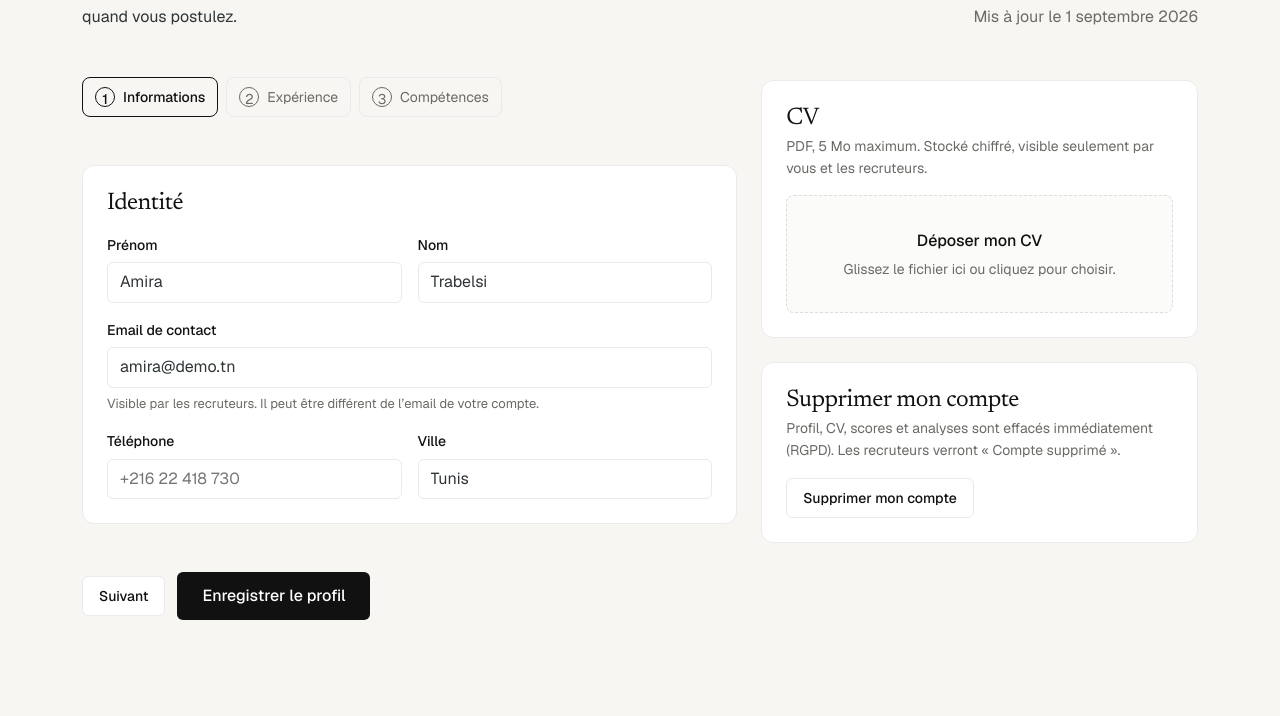
it: profile creation and edition › shows the server field errors under the right field
(page scrolled)
Click the button "Enregistrer le profil": click(274, 596) [178,572,370,620]
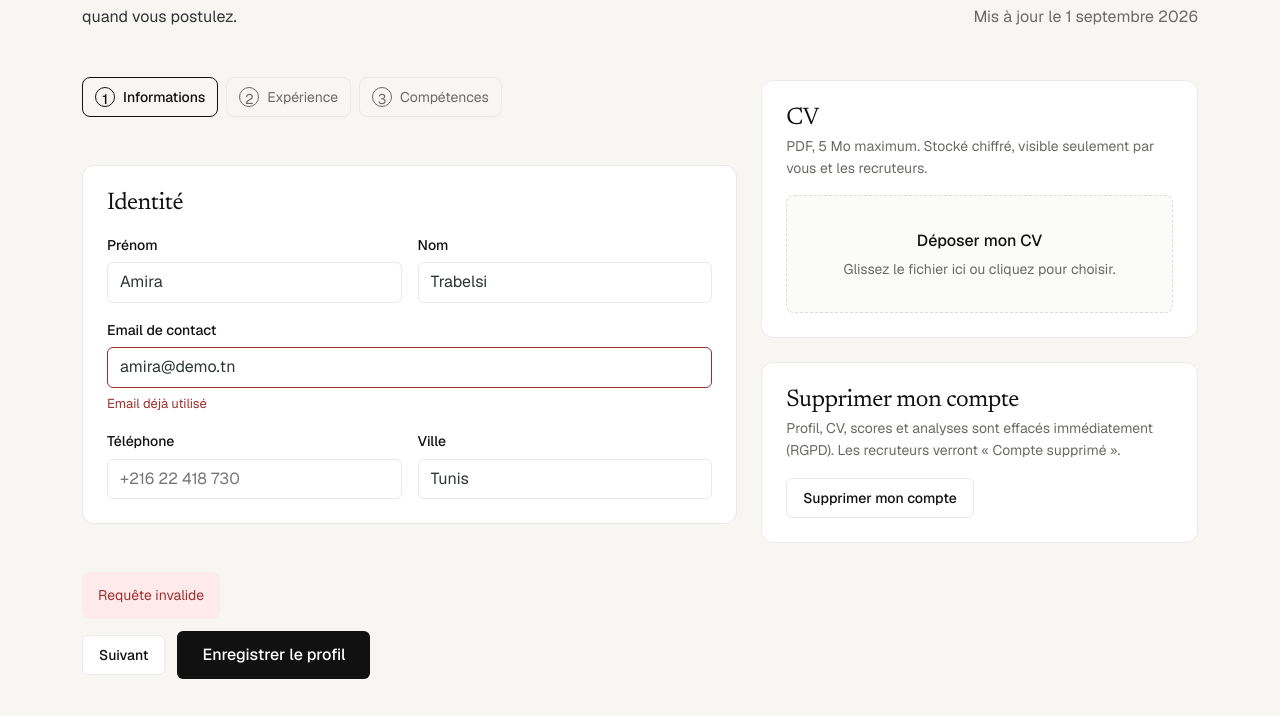
expect the text "Email déjà utilisé" is shown: met, box [107,395,207,412]
